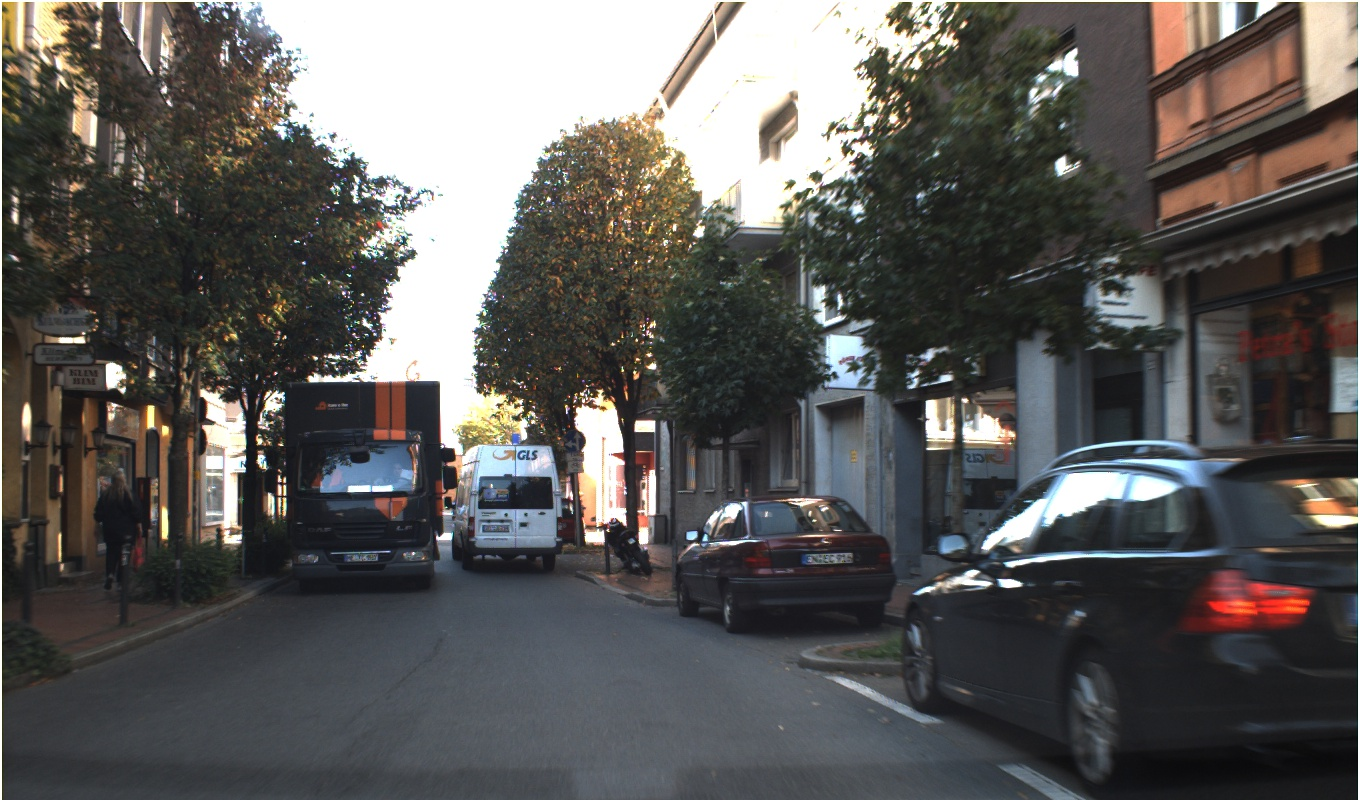car: (919, 531, 1187, 710), (286, 389, 444, 582), (719, 515, 887, 623), (484, 450, 557, 548), (606, 523, 650, 572), (568, 501, 588, 544)
pedestrian: (99, 472, 141, 587)
